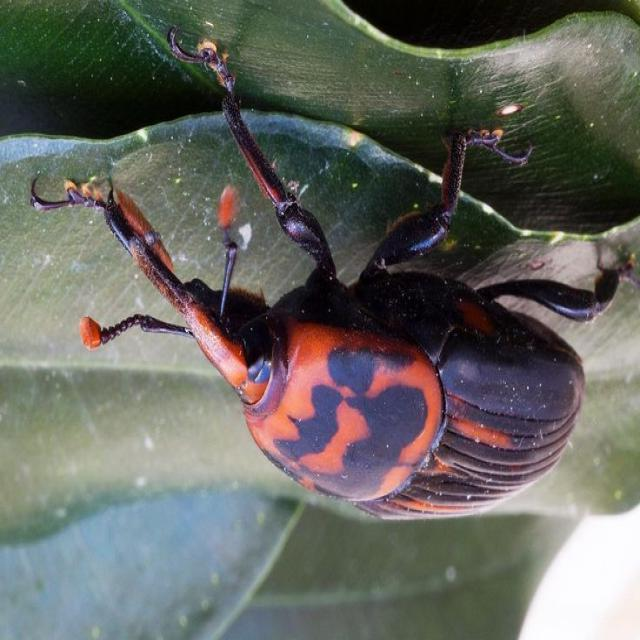Red-palm-weevil: (68, 129, 618, 529)
